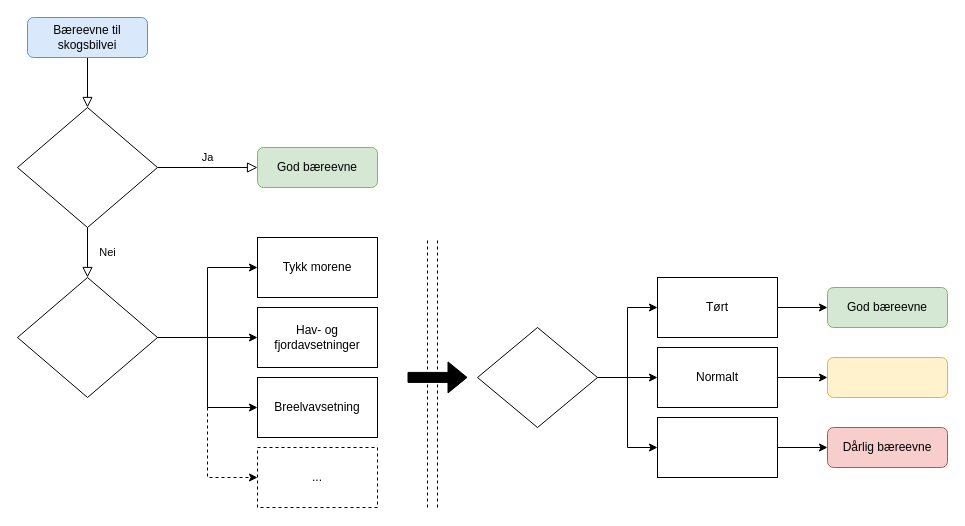
Image size: 965x526. Some labels were removed from this diagram. The shapes that lost their labels are listed below. From the top down, each one's centre as x and y in pixels, then its label:
At [87,167]: "Er det minst Xcm tele i bakken?".
At [87,337]: "Hvilke løsmasser er lokale til veien?".
At [537,377]: "Hvor fuktig er bakken?".
At [887,377]: "Middels bæreevne".
At [717,447]: "Fuktig".
